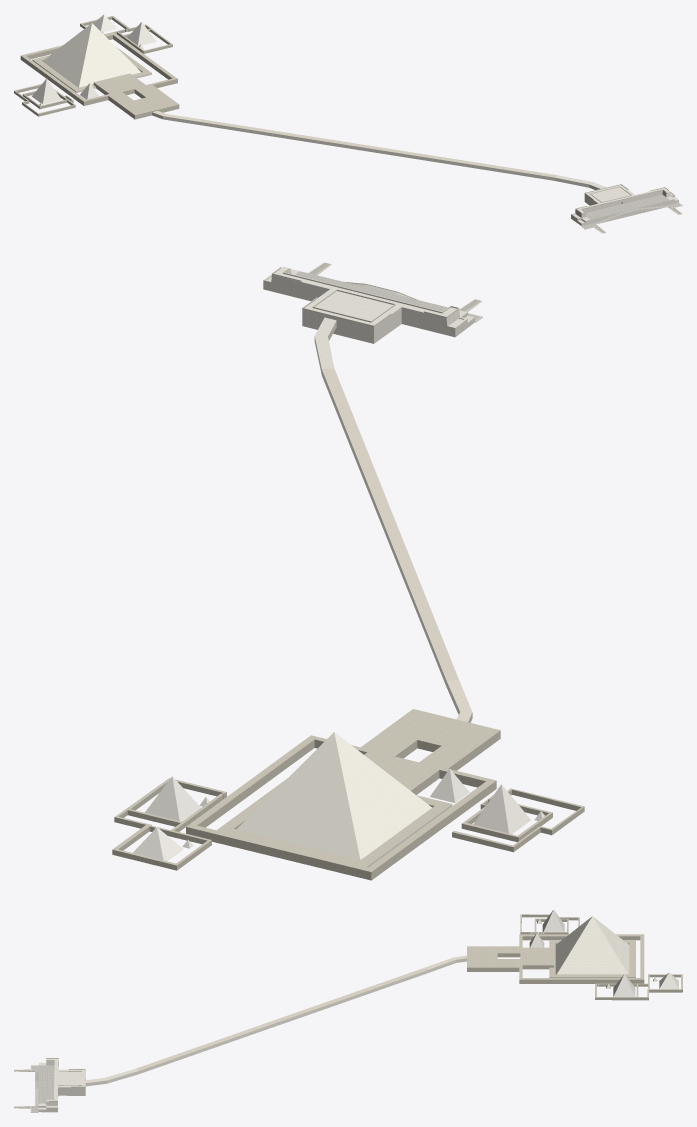
The model's file is Pepy2_Pyramid.glb.
The picture shows the model from 3 angles, top to bottom: view 1: azimuth 30°, elevation 25°; view 2: azimuth 150°, elevation 25°; view 3: azimuth 270°, elevation 25°; orthographic projection. The views are drawn at different scales.
Visible parts, largest first — view 1: Mesh2 Model, Mesh1 Model, Mesh12 Model, Mesh7 Model, Mesh8 Model, Mesh4 Model, Mesh5 Model; view 2: Mesh2 Model, Mesh1 Model, Mesh12 Model, Mesh8 Model, Mesh7 Model, Mesh4 Model, Mesh5 Model, Mesh6 Model; view 3: Mesh2 Model, Mesh1 Model, Mesh12 Model, Mesh8 Model, Mesh7 Model, Mesh5 Model, Mesh4 Model.
Part boxes in pixels (x1,y1,x2,y2): Mesh2 Model: [20, 32, 606, 189]; Mesh1 Model: [42, 23, 140, 87]; Mesh12 Model: [571, 184, 682, 233]; Mesh7 Model: [14, 84, 75, 116]; Mesh8 Model: [80, 16, 172, 53]; Mesh4 Model: [32, 78, 61, 104]; Mesh5 Model: [127, 22, 156, 46]; Mesh2 Model: [186, 317, 500, 880]; Mesh1 Model: [236, 732, 431, 859]; Mesh12 Model: [263, 262, 482, 343]; Mesh8 Model: [112, 778, 226, 870]; Mesh7 Model: [452, 788, 584, 852]; Mesh4 Model: [473, 784, 530, 834]; Mesh5 Model: [145, 776, 200, 821]; Mesh6 Model: [133, 827, 183, 861]; Mesh2 Model: [85, 934, 644, 1086]; Mesh1 Model: [555, 916, 629, 974]; Mesh12 Model: [14, 1058, 85, 1112]; Mesh8 Model: [595, 974, 682, 1000]; Mesh7 Model: [520, 914, 579, 934]; Mesh5 Model: [613, 974, 635, 996]; Mesh4 Model: [542, 909, 564, 931].
Size of the model in its own units: 485 by 57.68 by 716.
Materials: 13 (10 with a texture image).
